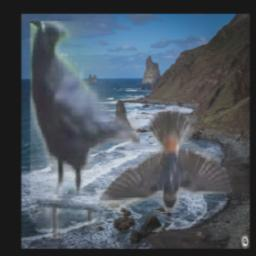Crow: (31, 22, 141, 239)
Swallow: (94, 110, 233, 214)
